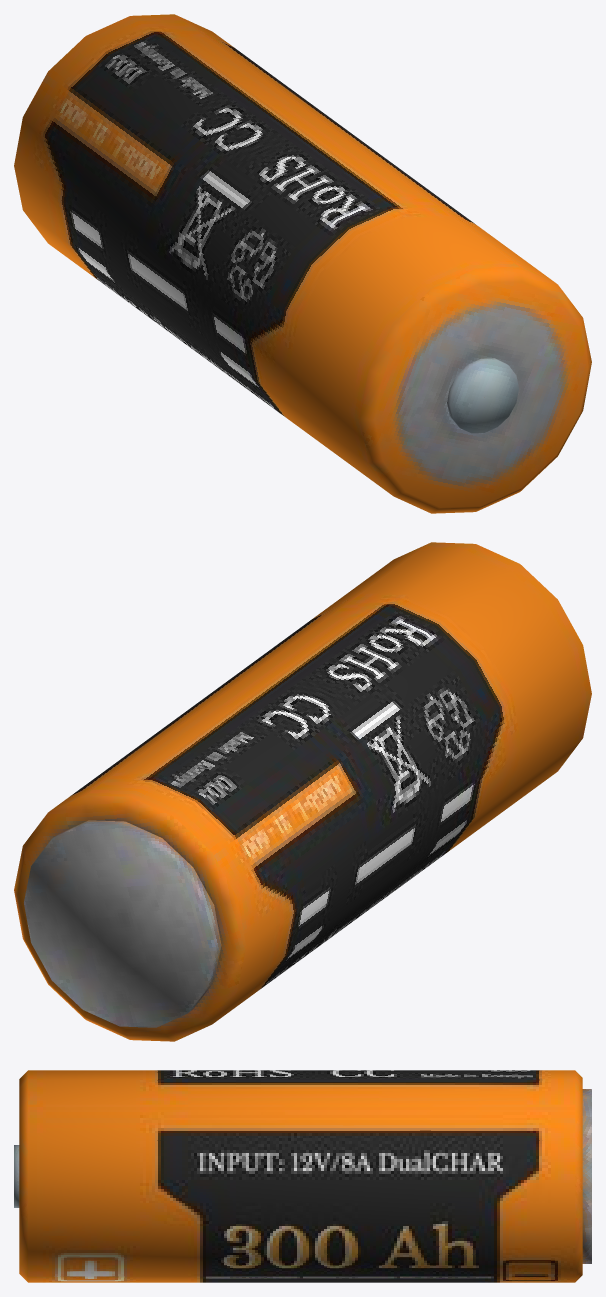
File: battery.glb
3 renders of one model, top to bottom at view 1: azimuth 30°, elevation 25°; view 2: azimuth 150°, elevation 25°; view 3: azimuth 270°, elevation 25°, orthographic. The views are drawn at different scales.
Parts seen in each view (by area): view 1: battery; view 2: battery; view 3: battery.
Boxes of the visible parts, bbox=[...] form: battery: bbox=[14, 14, 591, 513]; battery: bbox=[14, 542, 591, 1041]; battery: bbox=[14, 1070, 591, 1282].
Size of the model in its own units: 15.4 by 15.4 by 41.92.
1 material, 1 textured.
